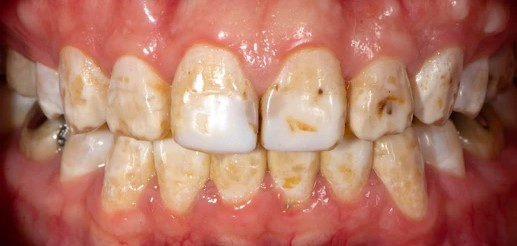LL1BC_healthy: (424, 122, 467, 181)
LL2BC_sdecay: (465, 112, 505, 160)
LLCI_mdecay: (268, 151, 321, 211)
LLC_mdecay: (373, 129, 431, 220)
LLLI_mdecay: (322, 138, 374, 205)
LR1BC_healthy: (64, 132, 110, 181)
LR2BC_sdecay: (22, 113, 64, 163)
LRCI_mdecay: (211, 152, 267, 208)
LRC_mdecay: (107, 134, 155, 212)
LRLI_mdecay: (153, 142, 211, 215)
UL1BC_mdecay: (464, 53, 492, 117)
UL2BC_mdecay: (492, 47, 516, 94)
ULCI_mdecay: (261, 42, 346, 150)
ULC_mdecay: (415, 44, 464, 128)
ULLI_mdecay: (349, 55, 415, 139)
UR1BC_mdecay: (36, 63, 64, 120)
UR2BC_mdecay: (5, 49, 38, 99)
URCI_mdecay: (171, 40, 259, 154)
URC_mdecay: (59, 45, 107, 135)
URLI_mdecay: (106, 54, 171, 141)
